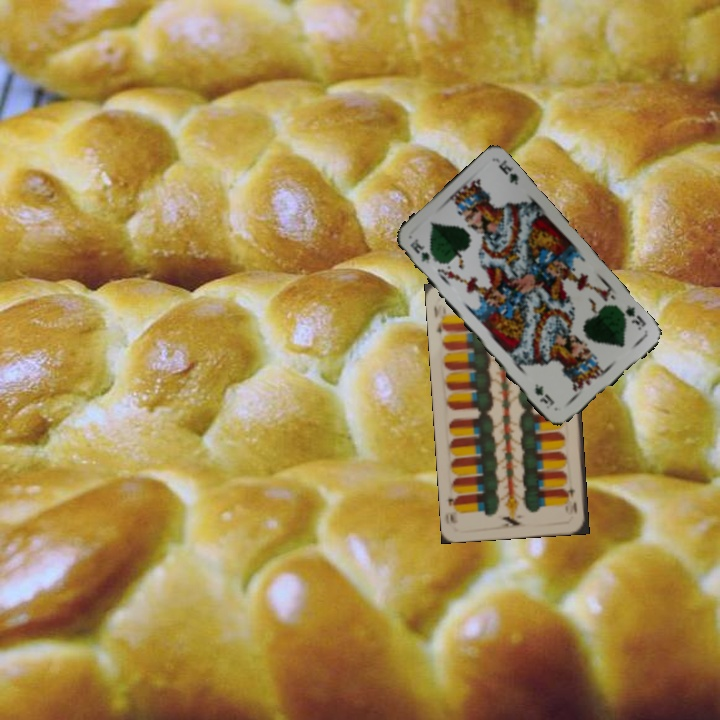E10: (430, 301, 450, 337), (562, 478, 580, 517)
GK: (621, 301, 649, 333), (406, 237, 432, 266)
